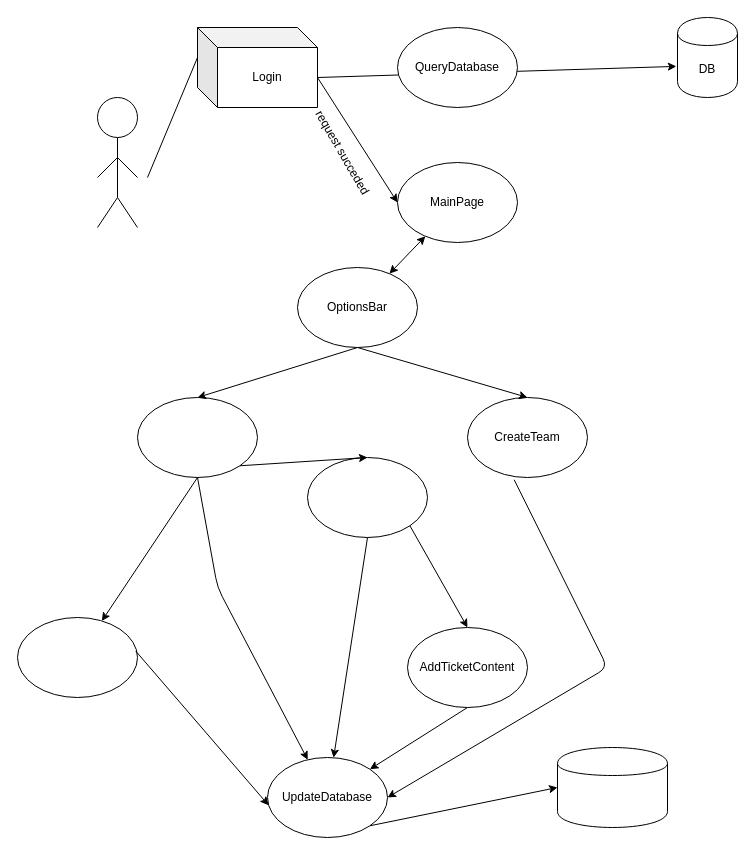
Some shapes in this 755 by 855 pixel diagram are drawn without their labels. Each missing label, with the box of its shape:
AddTeam: (16, 616, 138, 698)
CreateBoard: (136, 396, 258, 478)
CreateTicket: (306, 456, 428, 538)
Database: (556, 746, 668, 828)
